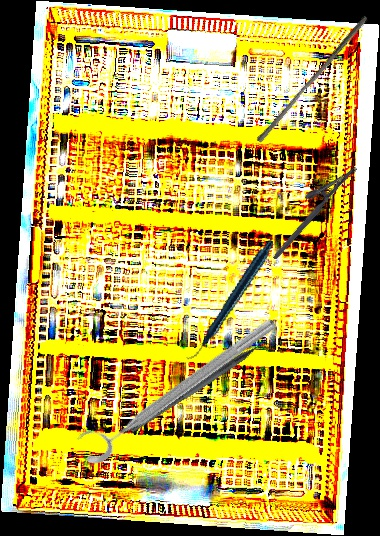Chopper: (127, 329, 284, 444)
Fixation Ring: (71, 302, 281, 469)
Handpiece: (158, 238, 301, 361)
Needle Holder: (259, 154, 359, 261)
Pusher: (255, 11, 370, 147)
